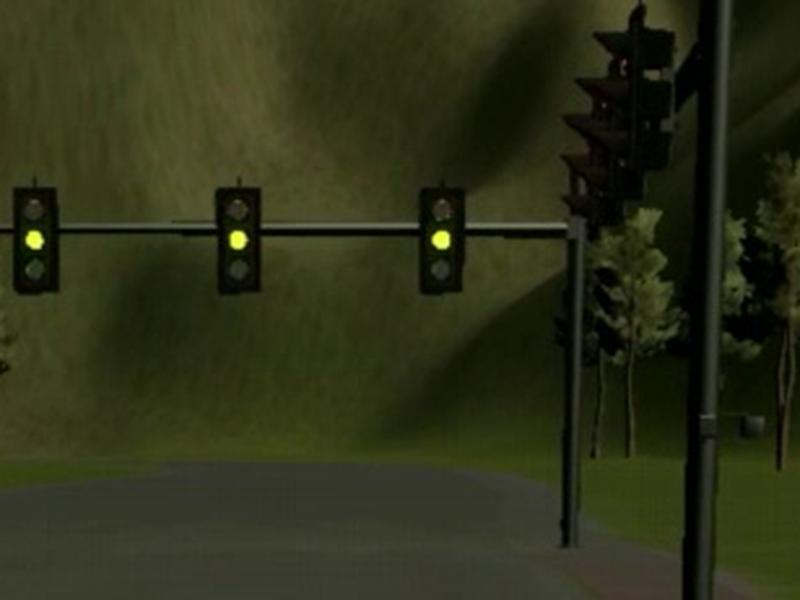Yellow: (11, 186, 60, 294), (214, 187, 262, 293), (420, 189, 466, 295)
